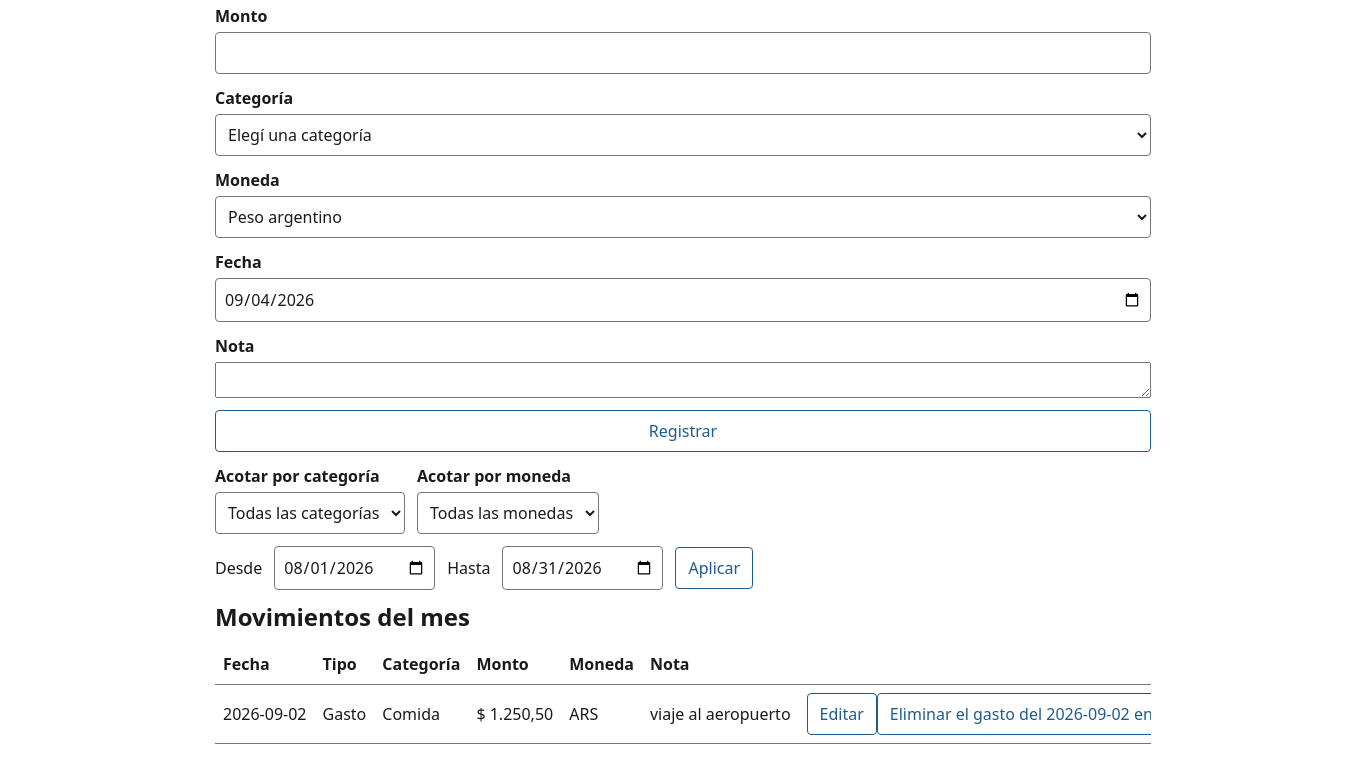
Test: VentanaDeEdicion › se cierra al guardar con éxito
The width and height of the screenshot is (1366, 762).
(page scrolled)
Expected: the table named "movimientos del mes" is shown, left=215, top=644, right=1151, bottom=744
Step 1. Click the button "Editar" → (842, 714), box left=807, top=693, right=877, bottom=735
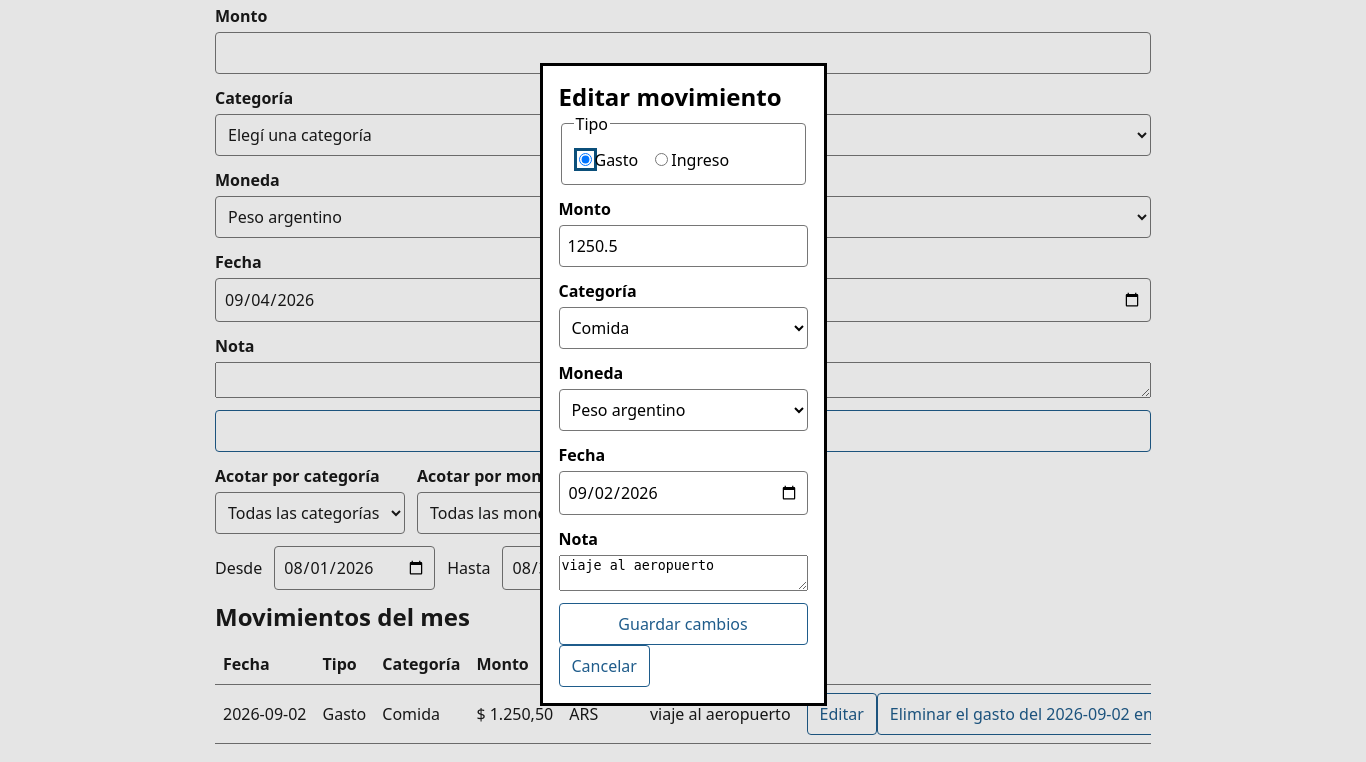
Step 2. Click the button "Guardar cambios" → (683, 624), box left=558, top=602, right=808, bottom=644
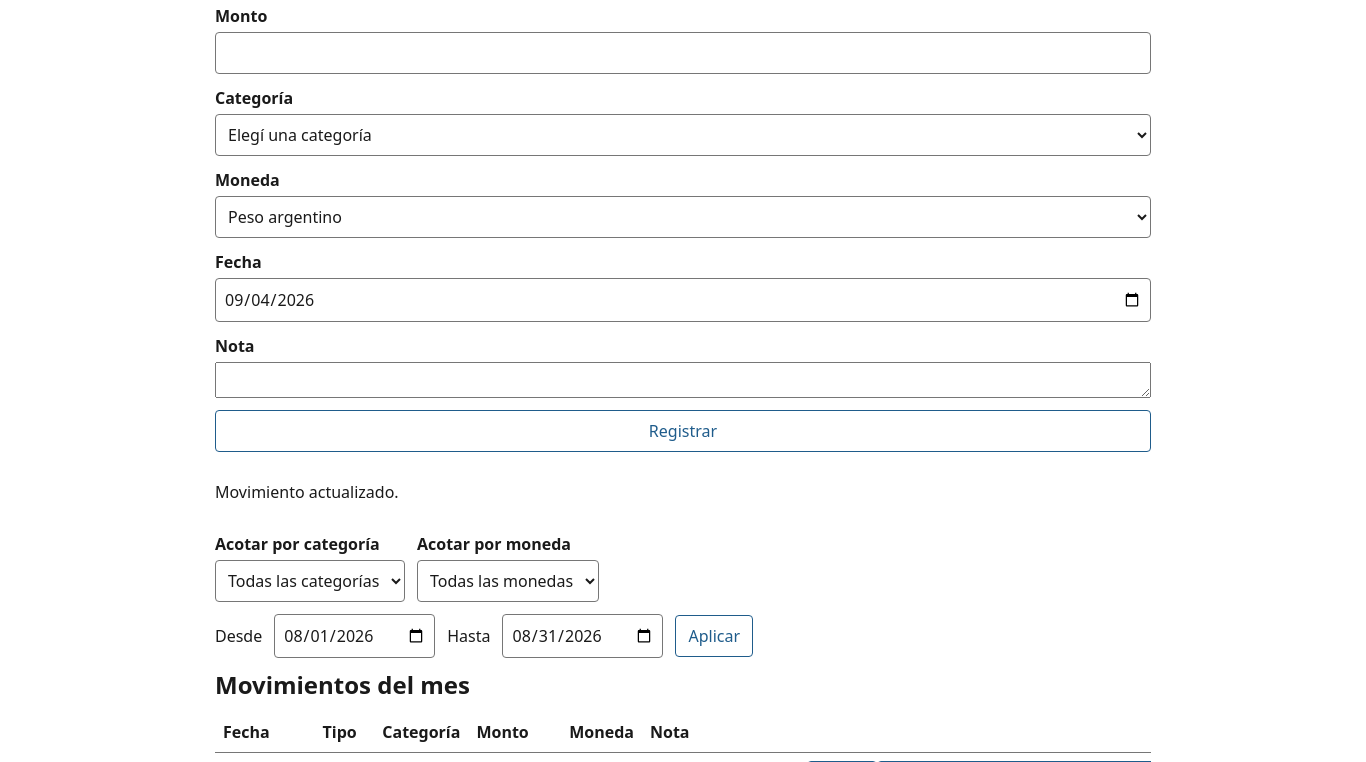
Expected: the dialog is gone
